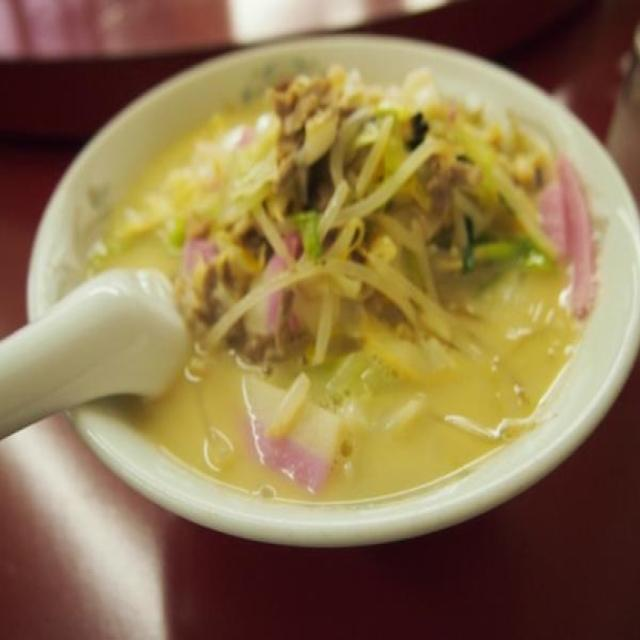面条主食: (22, 100, 611, 496)
